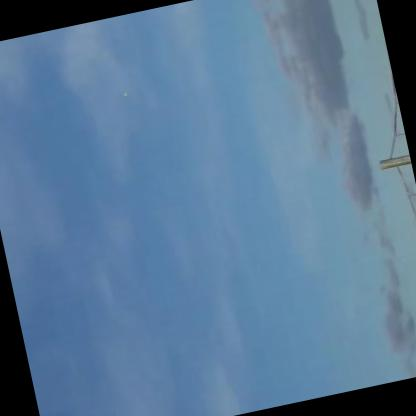plane: (115, 86, 131, 101)
